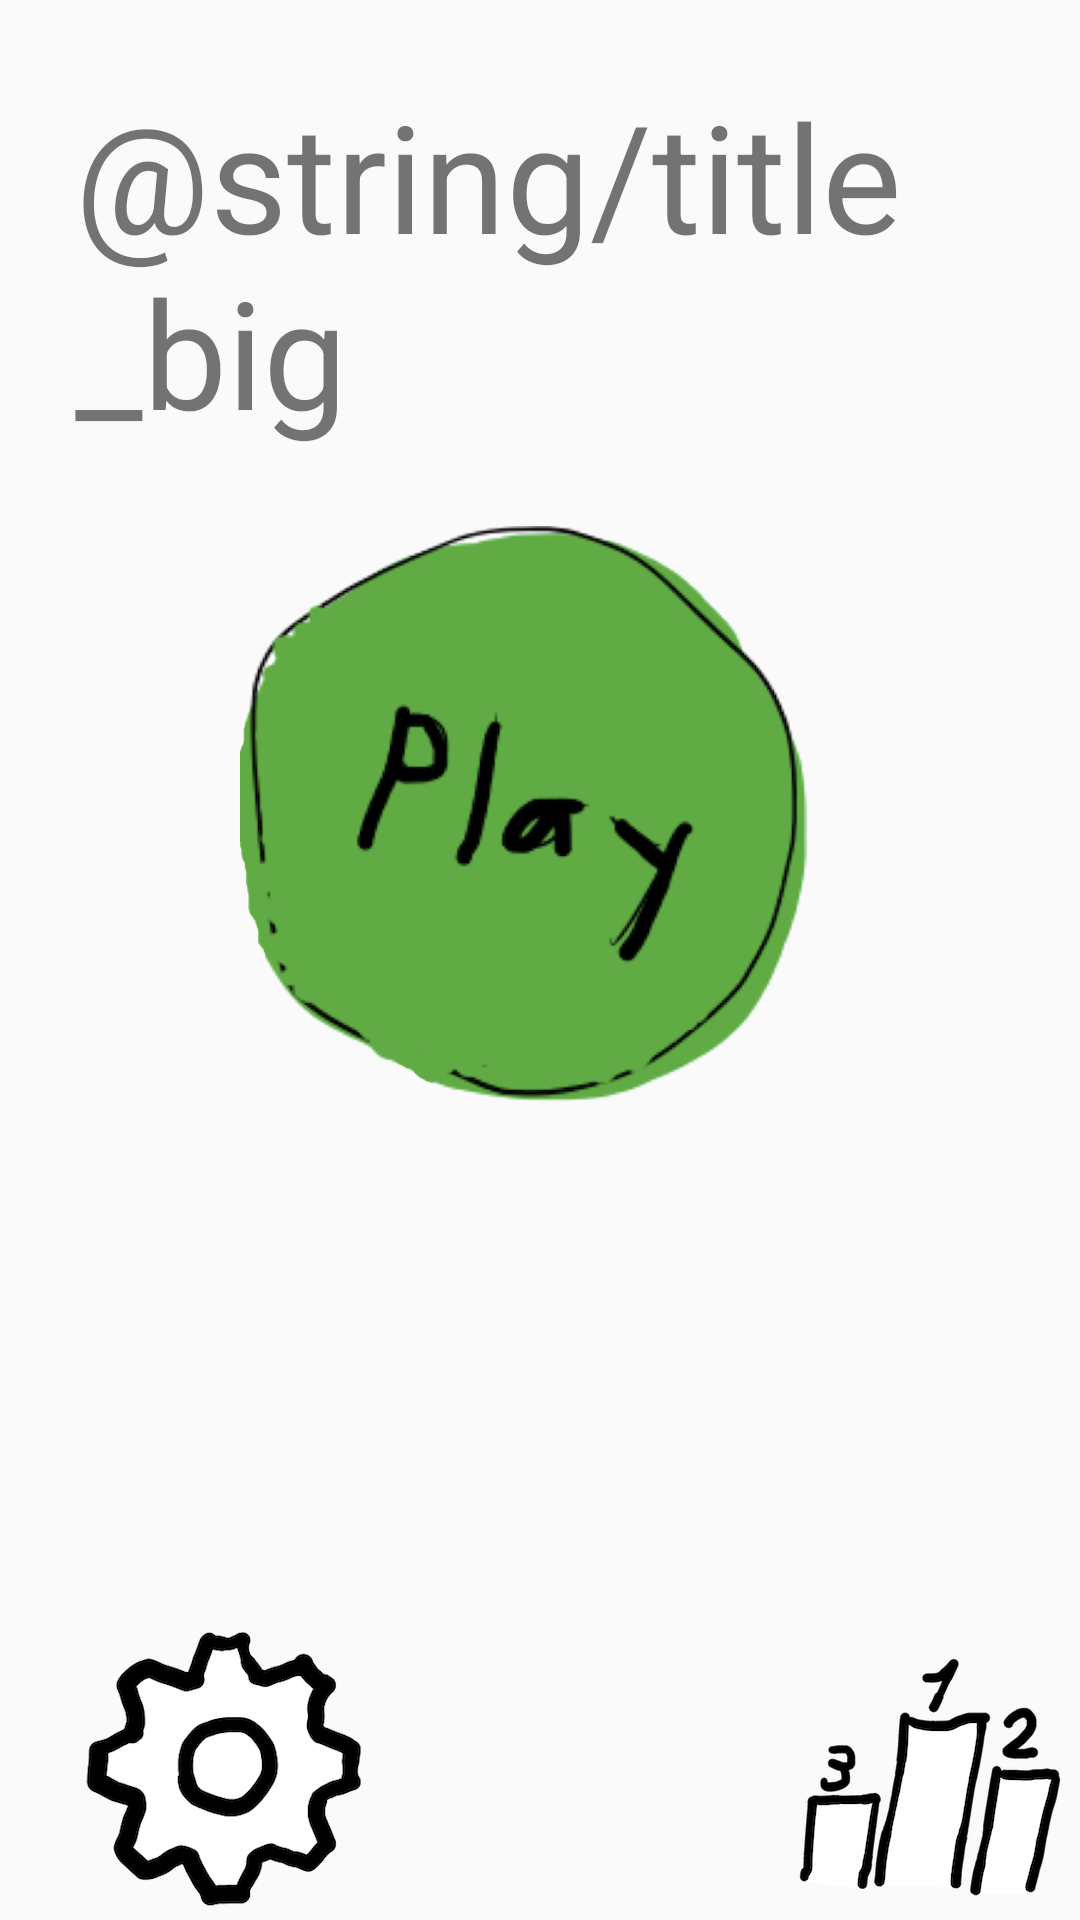

Point at icon controls on the screen. Image size 1080×1920, points as point (x, y).
einstellungen: point (223, 1769)
rang: point (929, 1777)
